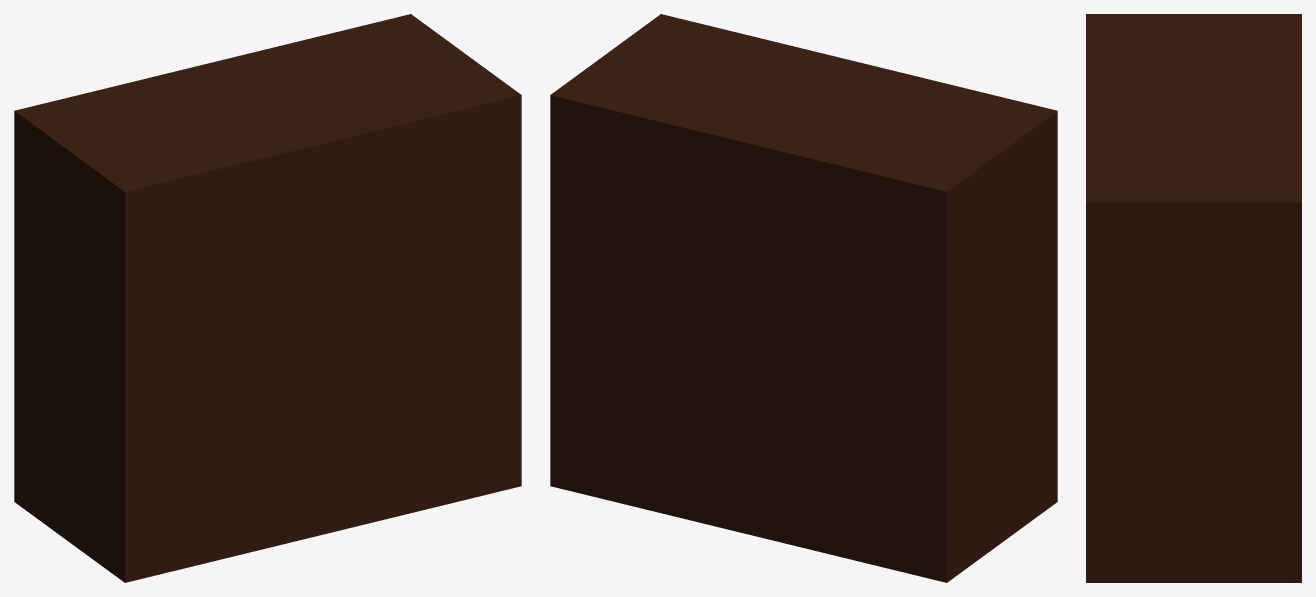
The model's file is storage_bin.obj.
3 renders of one model, left to right at view 1: azimuth 30°, elevation 25°; view 2: azimuth 150°, elevation 25°; view 3: azimuth 270°, elevation 25°, orthographic. The views are drawn at different scales.
Parts seen in each view (by area): view 1: dark_wood; view 2: dark_wood; view 3: dark_wood.
Part boxes in pixels (left/top/right/bottom): dark_wood: left=14, top=14, right=521, bottom=582; dark_wood: left=550, top=14, right=1057, bottom=582; dark_wood: left=1086, top=14, right=1301, bottom=582.
Bounding box in the file's own units: 1.55 × 1.46 × 0.75.
